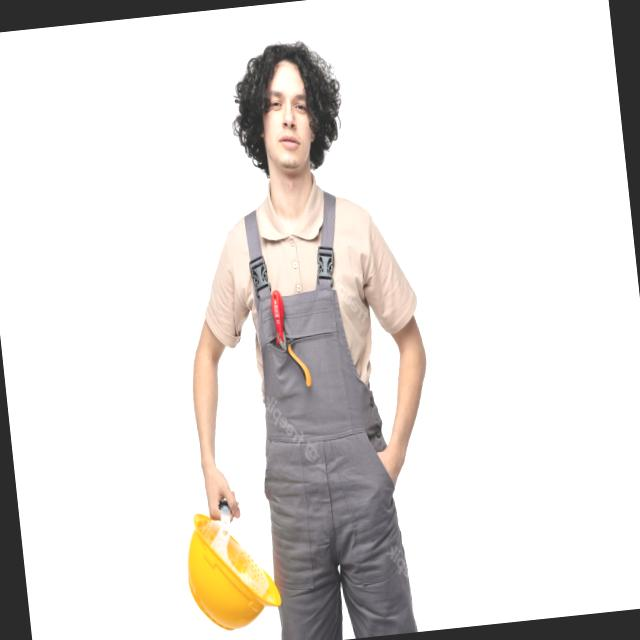no-goggles: (256, 86, 321, 125)
no-helmet: (223, 29, 352, 142)
no-vest: (218, 181, 396, 458)
